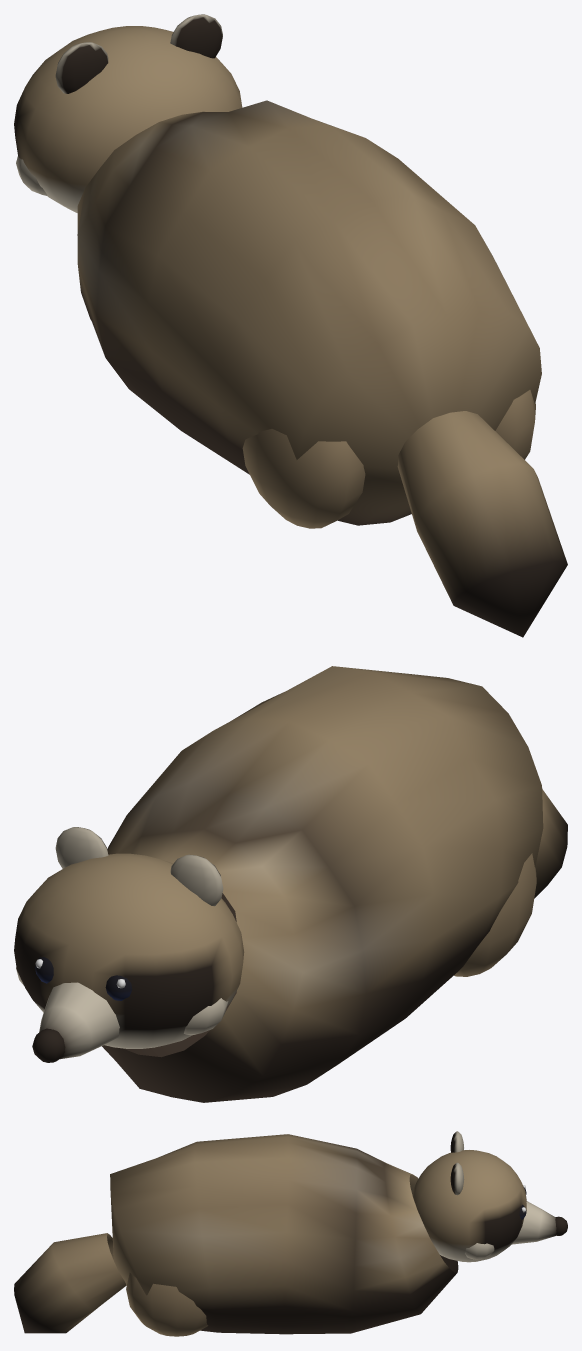
File: Tanuki.fbx
3 views of the same model, one above another, from view 1: azimuth 30°, elevation 25°; view 2: azimuth 150°, elevation 25°; view 3: azimuth 270°, elevation 25° (orthographic). The views are drawn at different scales.
Visible parts, largest first — view 1: Tanuki; view 2: Tanuki; view 3: Tanuki.
Boxes of the visible parts, x1,y1,x2,y2 form: Tanuki: (14, 14, 567, 637); Tanuki: (14, 666, 567, 1102); Tanuki: (14, 1131, 567, 1336).
Size of the model in its own units: 9.59 by 10.78 by 28.42.
